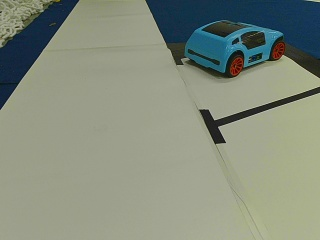car: (184, 21, 283, 77)
